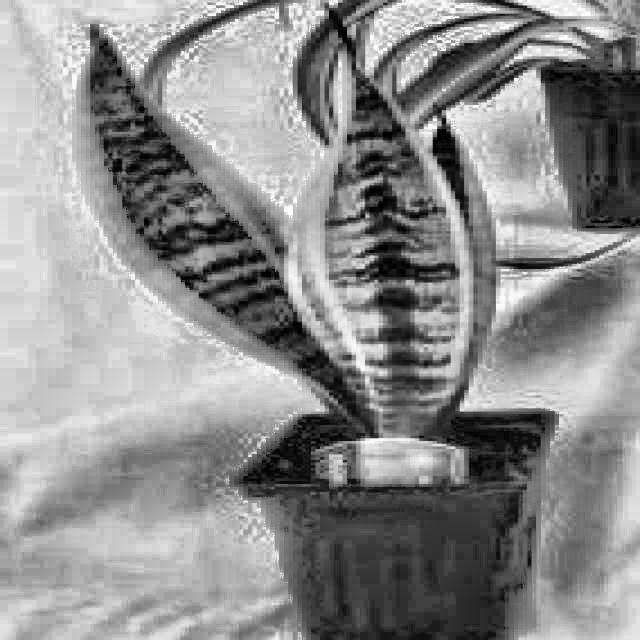plants: (46, 26, 549, 632)
